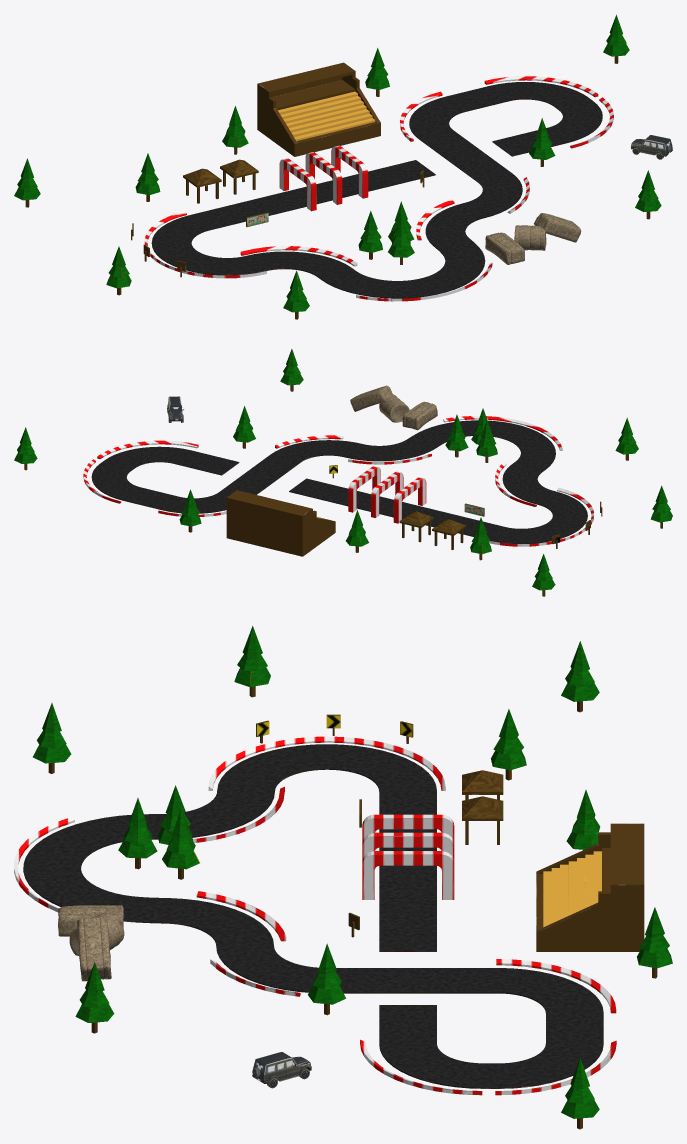
The model's file is track01.glb.
3 renders of one model, top to bottom at view 1: azimuth 30°, elevation 25°; view 2: azimuth 150°, elevation 25°; view 3: azimuth 270°, elevation 25°, orthographic. The views are drawn at different scales.
Parts seen in each view (by area): view 1: Track, Cube_1, Cylinder_0, NurbsPath; view 2: Track, Cube_1, Cylinder_0, NurbsPath; view 3: Track, Cube_1, NurbsPath.
Boxes of the visible parts, box(x1,y1,x2,y2) form: Track: box(14, 14, 661, 319); Cube_1: box(485, 213, 581, 264); Cylinder_0: box(514, 225, 546, 250); NurbsPath: box(631, 135, 672, 159); Track: box(14, 349, 672, 596); Cube_1: box(350, 385, 437, 430); Cylinder_0: box(379, 394, 409, 422); NurbsPath: box(167, 396, 184, 422); Track: box(14, 626, 672, 1129); Cube_1: box(58, 905, 123, 981); NurbsPath: box(252, 1052, 311, 1088).
Size of the model in its own units: 58.05 by 4.48 by 36.06.
Materials: 3 (3 with a texture image).
